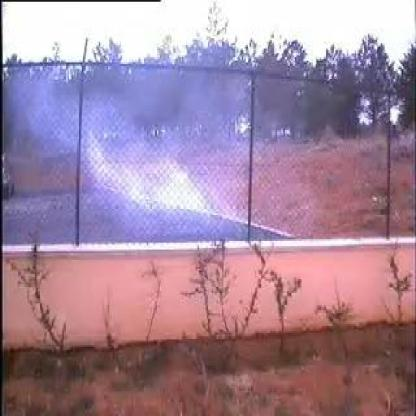-: (77, 76, 252, 240)
